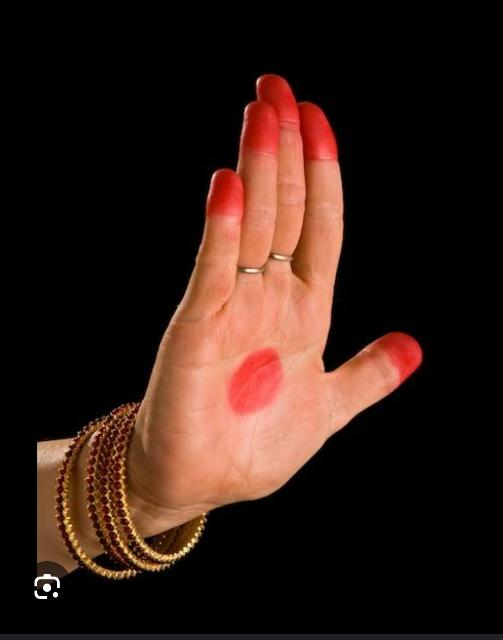ardhachandra: (136, 61, 462, 579)
